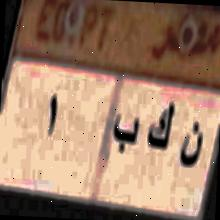1: (39, 88, 63, 143)
baa: (112, 110, 139, 158)
kaaf: (146, 84, 175, 166)
noon: (177, 122, 204, 182)
